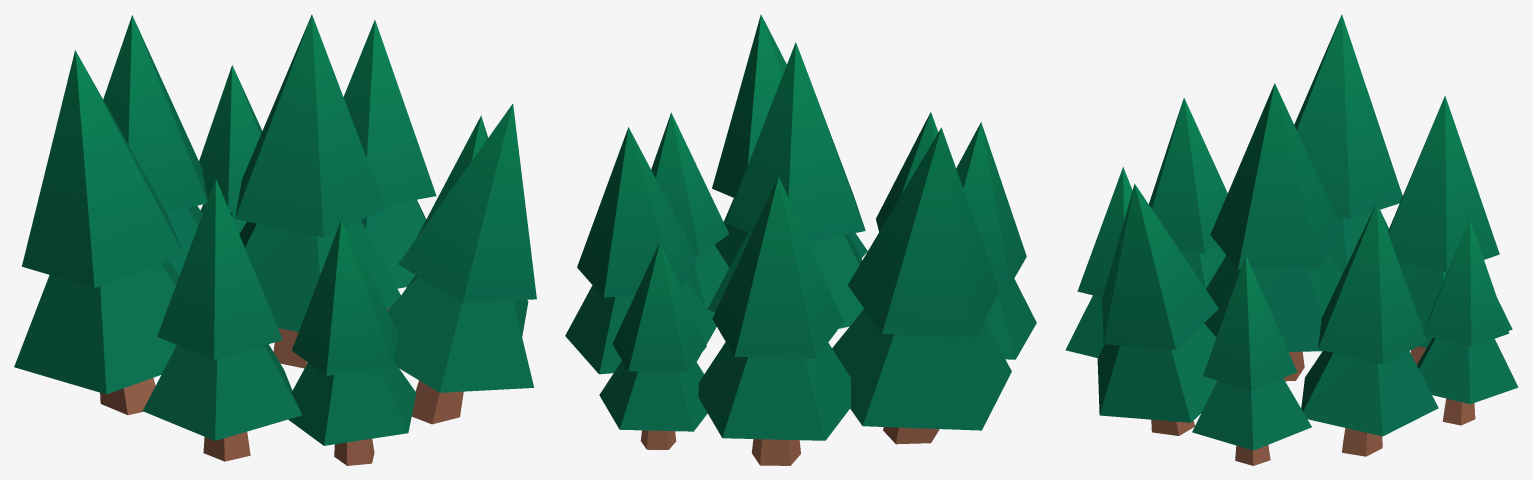
The model's file is hex_trees_a_small.glb.
The picture shows the model from 3 angles, left to right: view 1: azimuth 30°, elevation 25°; view 2: azimuth 150°, elevation 25°; view 3: azimuth 270°, elevation 25°; orthographic projection. The views are drawn at different scales.
Visible parts, largest first — view 1: hex_trees_a_small; view 2: hex_trees_a_small; view 3: hex_trees_a_small.
Boxes of the visible parts, bbox=[...] form: hex_trees_a_small: bbox=[14, 14, 536, 465]; hex_trees_a_small: bbox=[565, 14, 1036, 465]; hex_trees_a_small: bbox=[1065, 14, 1518, 465].
Size of the model in its own units: 0.7132 by 0.5545 by 0.7175.
1 material, 1 textured.
